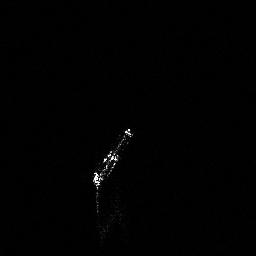ship: (91, 127, 134, 189)
